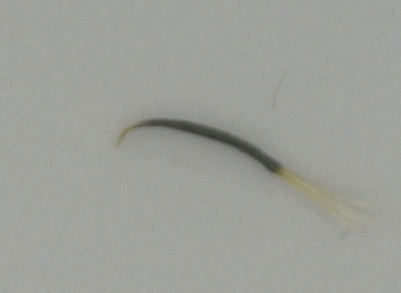เมล็ดดีเรียวยาว: (112, 117, 383, 235)
